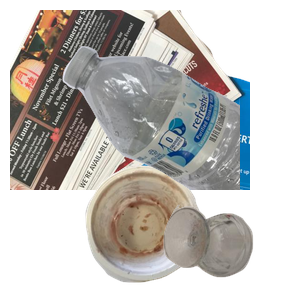glass: (161, 202, 300, 300)
paper: (10, 10, 250, 190)
plastic: (60, 44, 300, 224)
trash: (83, 163, 276, 300)
